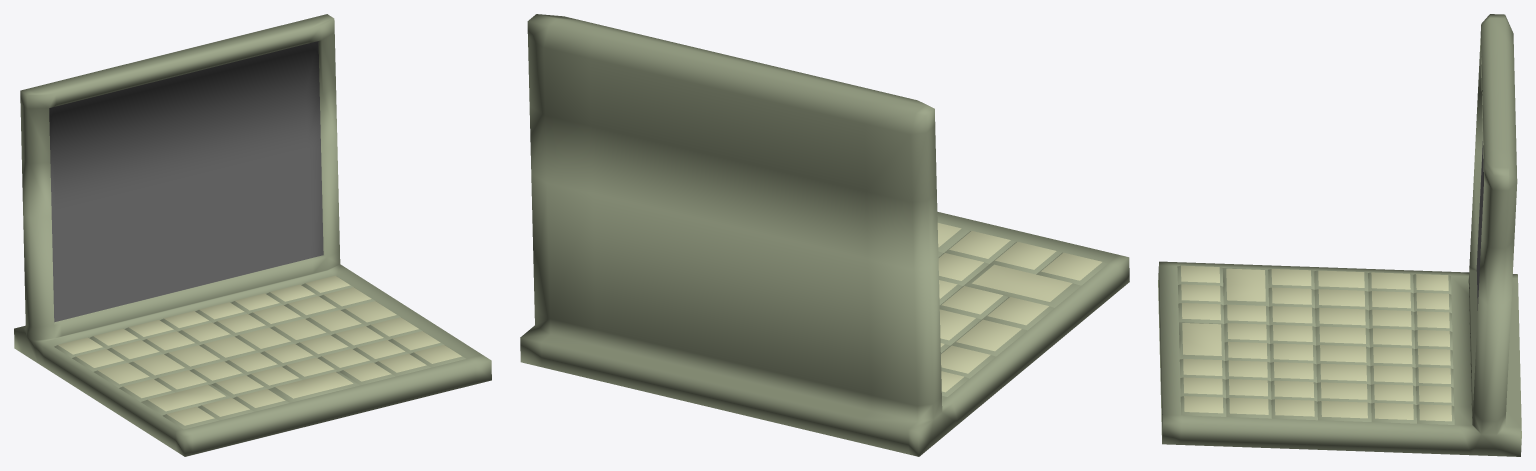
File: computadora.glb
3 views of the same model, side by side, from view 1: azimuth 30°, elevation 25°; view 2: azimuth 150°, elevation 25°; view 3: azimuth 270°, elevation 25° (orthographic). The views are drawn at different scales.
Parts seen in each view (by area): view 1: Cube.003; view 2: Cube.003; view 3: Cube.003.
Boxes of the visible parts, x1=… form: Cube.003: x1=14, y1=14, x2=491, y2=456; Cube.003: x1=520, y1=14, x2=1129, y2=456; Cube.003: x1=1158, y1=14, x2=1521, y2=456.
Size of the model in its own units: 2.02 by 1.62 by 1.9.
